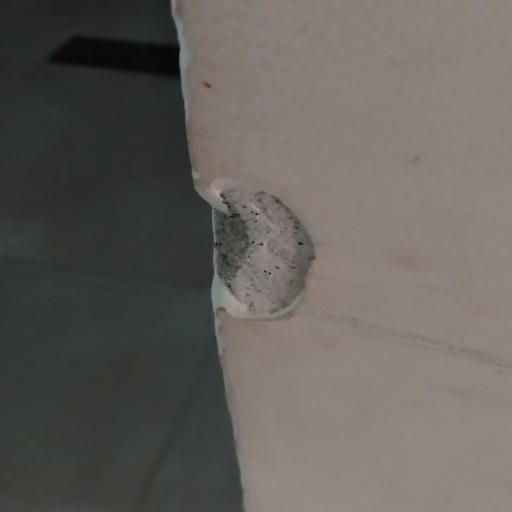spalling: (193, 175, 324, 348)
